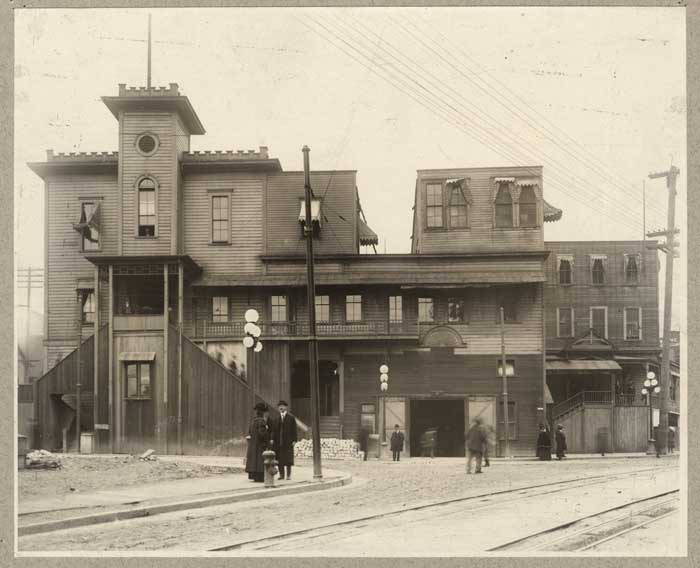fachada: (26, 80, 543, 457), (547, 237, 664, 471)
poste: (283, 131, 339, 474), (636, 163, 694, 466)
